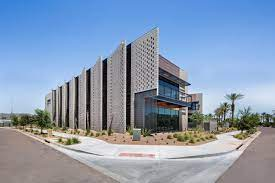Building House: (39, 39, 205, 135)
